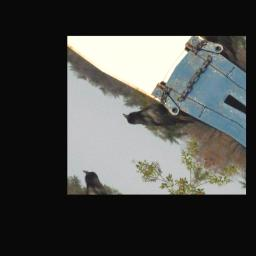Crow: (119, 86, 196, 152)
